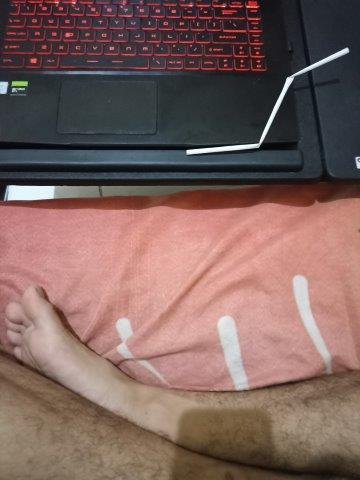sedotan: (188, 49, 349, 153)
